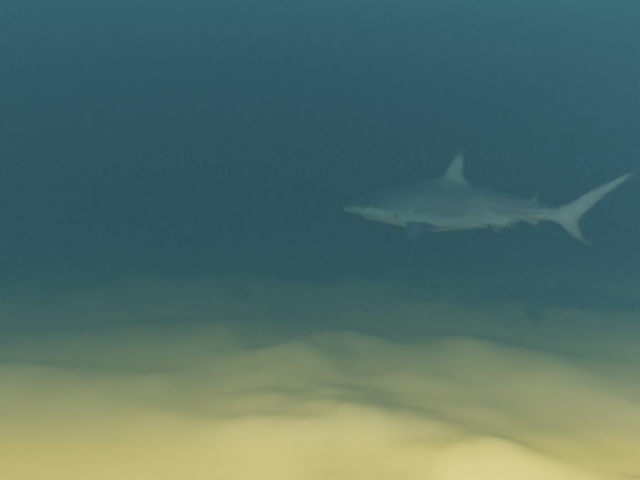Carribean Shark.001: (342, 149, 640, 246)
